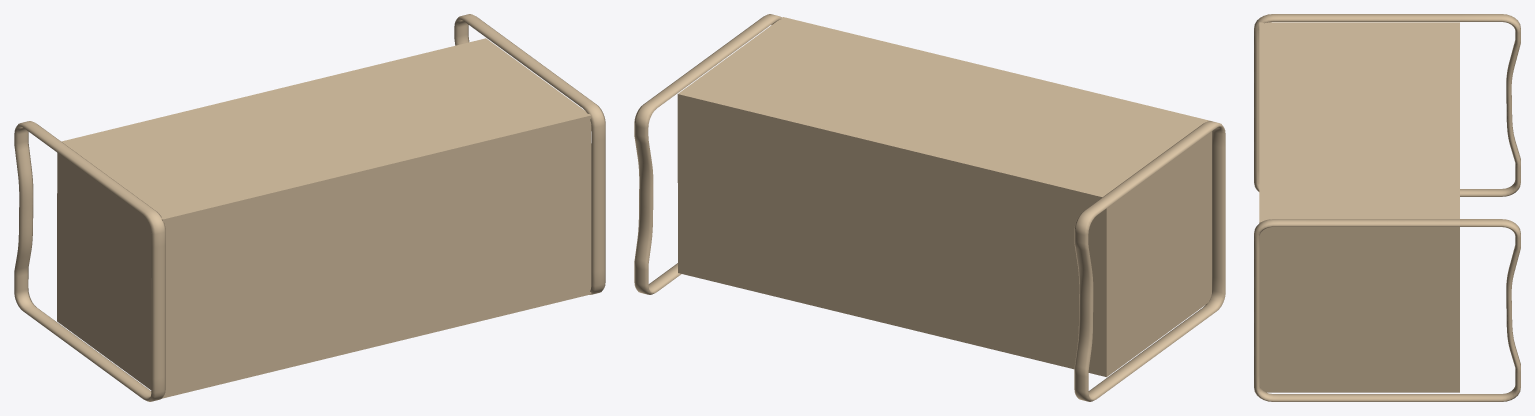
File: MeshRobothorDresserAnes_0.obj
The picture shows the model from 3 angles, left to right: view 1: azimuth 30°, elevation 25°; view 2: azimuth 150°, elevation 25°; view 3: azimuth 270°, elevation 25°; orthographic projection. The views are drawn at different scales.
Parts seen in each view (by area): view 1: RobothorDresserAnes; view 2: RobothorDresserAnes; view 3: RobothorDresserAnes.
Part boxes in pixels (x1=…): RobothorDresserAnes: x1=14, y1=14, x2=605, y2=401; RobothorDresserAnes: x1=634, y1=14, x2=1225, y2=401; RobothorDresserAnes: x1=1254, y1=14, x2=1520, y2=401.
Size of the model in its own units: 1.02 by 0.4047 by 0.5455.
